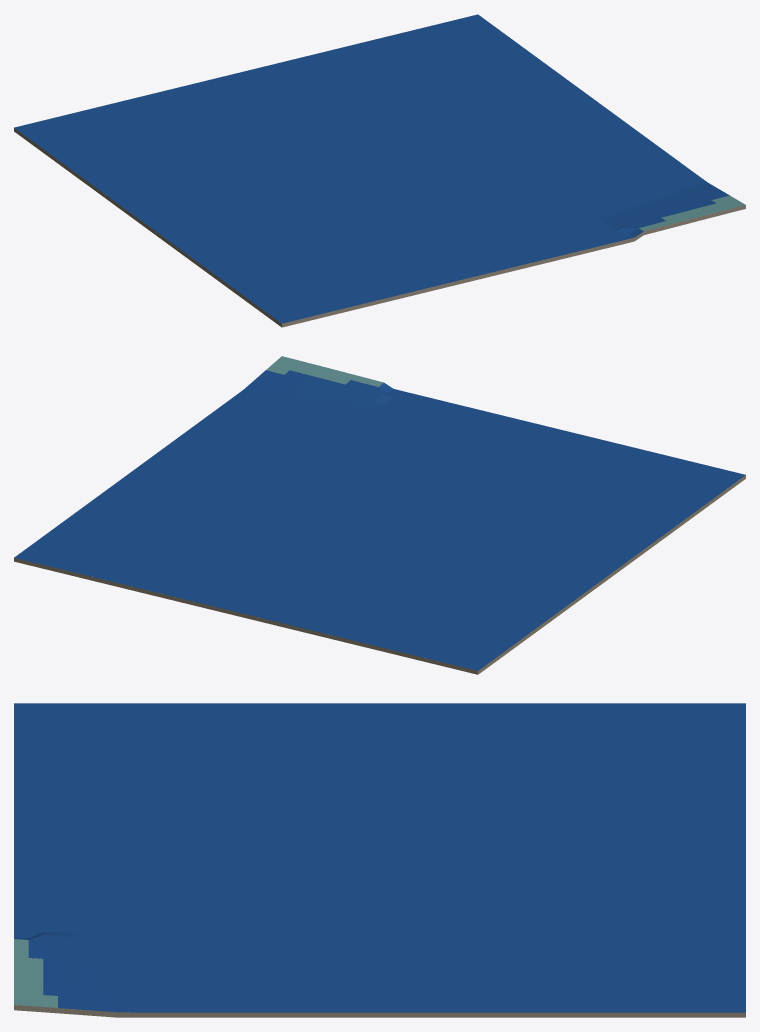
Rendered from parca_+2_+3-uzak.glb.
3 renders of one model, top to bottom at view 1: azimuth 30°, elevation 25°; view 2: azimuth 150°, elevation 25°; view 3: azimuth 270°, elevation 25°, orthographic. The views are drawn at different scales.
Parts seen in each view (by area): view 1: parca_+2_+3_arazi_uzak; view 2: parca_+2_+3_arazi_uzak; view 3: parca_+2_+3_arazi_uzak.
Part boxes in pixels (x1,y1,x2,y2): parca_+2_+3_arazi_uzak: [14, 14, 745, 327]; parca_+2_+3_arazi_uzak: [14, 356, 745, 674]; parca_+2_+3_arazi_uzak: [14, 703, 745, 1017].
Bounding box in the file's own units: 1000 × 19.36 × 1000.
